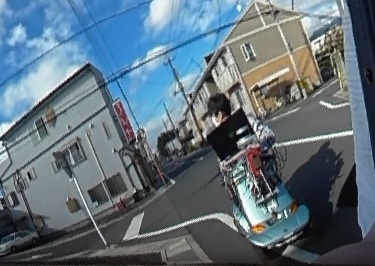person: (208, 91, 281, 206)
